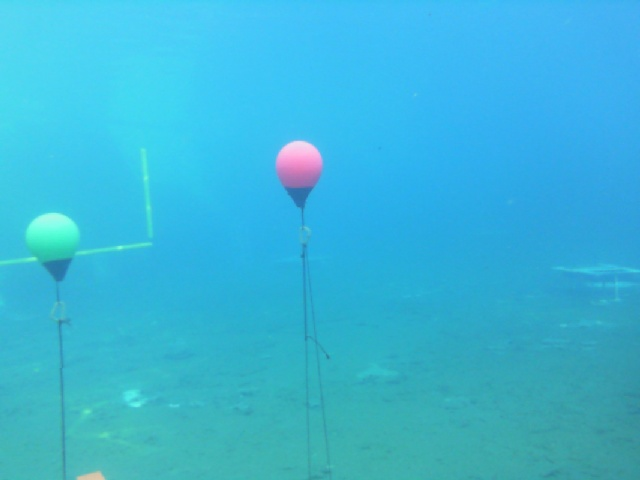buoy_green: (25, 211, 79, 281)
buoy_red: (275, 141, 322, 207)
